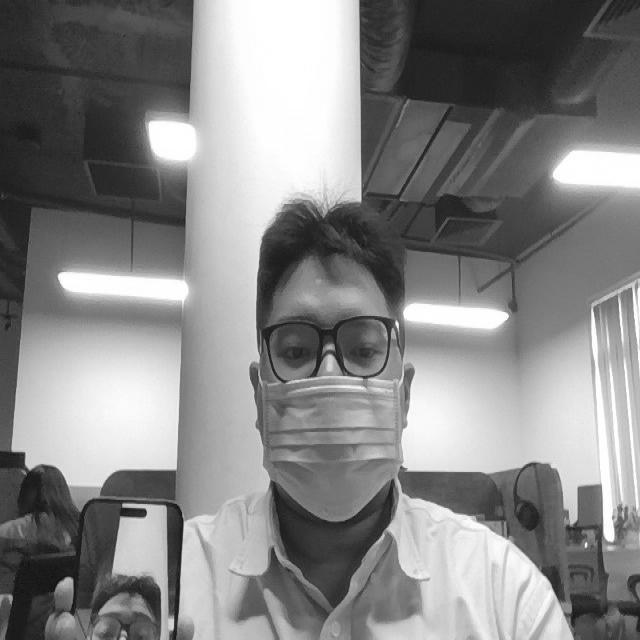fake: (57, 465, 191, 640), (261, 374, 404, 520), (86, 570, 165, 640)
real: (229, 175, 425, 559), (257, 309, 403, 384)
